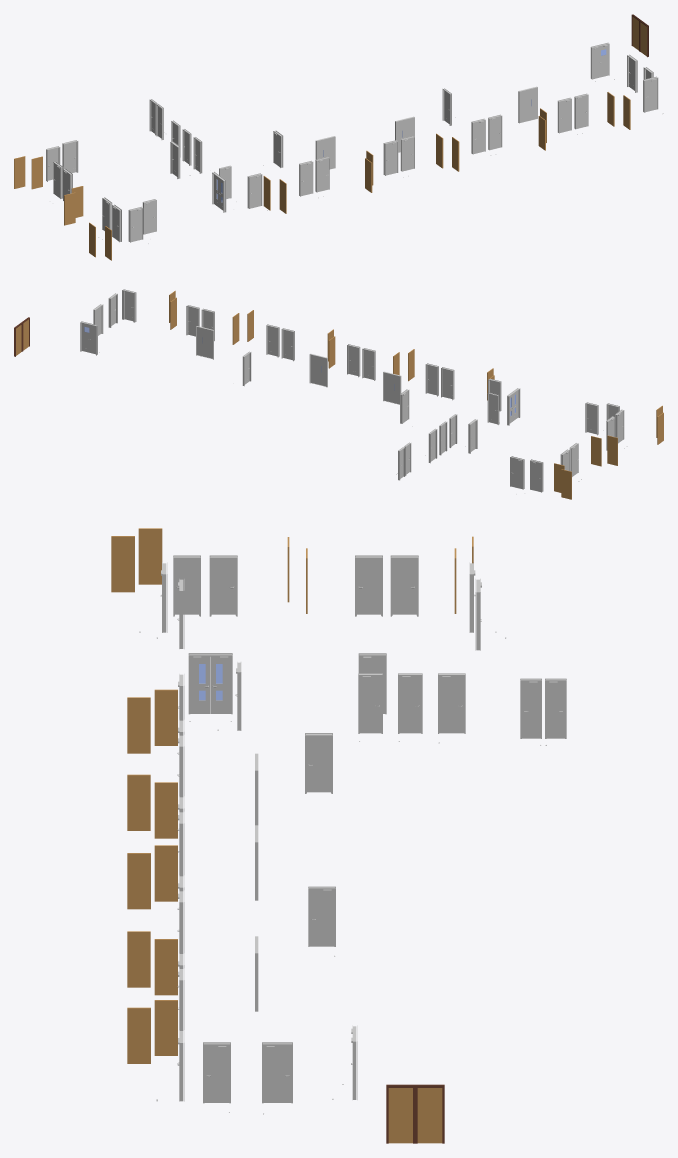
Rendered from Building Model - Excavation and Trench - updated_1kn71nZ$z5OvtVVlfMoRRc-Piso 3_IfcDoor.dae.
3 renders of one model, top to bottom at view 1: azimuth 30°, elevation 25°; view 2: azimuth 150°, elevation 25°; view 3: azimuth 270°, elevation 25°, orthographic. The views are drawn at different scales.
Visible parts, largest first — view 1: 3JLUC6oX1CJwqcpqLO$MxU, 3OBvVqfBfDR8CraztUO$on, 3OBvVqfBfDR8CraztUO$Rp, 3OBvVqfBfDR8CraztUO$ph, 3OBvVqfBfDR8CraztUO$pc, 2e0kZVHy15PupVzF9BmKDp, 3OBvVqfBfDR8CraztUO$op, 3OBvVqfBfDR8CraztUO$mP, 3OBvVqfBfDR8CraztUO$pa, 3OBvVqfBfDR8CraztUO$pb, 3OBvVqfBfDR8CraztUO$mQ, 3OBvVqfBfDR8CraztUO$pd (+10 smaller); view 2: 3OBvVqfBfDR8CraztUO$oo, 3OBvVqfBfDR8CraztUO$op, 3JLUC6oX1CJwqcpqLO$MxU, 3OBvVqfBfDR8CraztUO$on, 2e0kZVHy15PupVzF9BmKDp, 3JLUC6oX1CJwqcpqLO$M$j, 3OBvVqfBfDR8CraztUO$pg, 3OBvVqfBfDR8CraztUO$mO, 3OBvVqfBfDR8CraztUO$mP, 2e0kZVHy15PupVzF9BmKyt, 3OBvVqfBfDR8CraztUO$pc, 3OBvVqfBfDR8CraztUO$pb (+6 smaller); view 3: 3JLUC6oX1CJwqcpqLO$M$j, 3OBvVqfBfDR8CraztUO$ZB, 32NMaHW4HETOoqnpdpZEa$, 32NMaHW4HETOoqnpdpZEXG, 3OBvVqfBfDR8CraztUO$Rn, 3OBvVqfBfDR8CraztUO$Rv, 3OBvVqfBfDR8CraztUO$Xh, 3JLUC6oX1CJwqcpqLO$MvL, 3OBvVqfBfDR8CraztUO$R_, 3OBvVqfBfDR8CraztUO$Rm, 3OBvVqfBfDR8CraztUO$Rz, 3OBvVqfBfDR8CraztUO$Ro (+16 smaller).
Part boxes in pixels (x1,y1,x2,y2): 3JLUC6oX1CJwqcpqLO$MxU: [590, 42, 614, 81]; 3OBvVqfBfDR8CraztUO$on: [518, 86, 537, 123]; 3OBvVqfBfDR8CraztUO$Rp: [128, 206, 148, 243]; 3OBvVqfBfDR8CraztUO$ph: [247, 173, 267, 210]; 3OBvVqfBfDR8CraztUO$pc: [383, 140, 403, 177]; 2e0kZVHy15PupVzF9BmKDp: [62, 140, 78, 172]; 3OBvVqfBfDR8CraztUO$op: [315, 136, 335, 169]; 3OBvVqfBfDR8CraztUO$mP: [471, 118, 490, 155]; 3OBvVqfBfDR8CraztUO$pa: [299, 160, 318, 198]; 3OBvVqfBfDR8CraztUO$pb: [315, 156, 329, 196]; 3OBvVqfBfDR8CraztUO$mQ: [557, 97, 577, 134]; 3OBvVqfBfDR8CraztUO$pd: [400, 136, 414, 176]; 3OBvVqfBfDR8CraztUO$oo: [309, 353, 327, 387]; 3OBvVqfBfDR8CraztUO$op: [383, 371, 401, 404]; 3JLUC6oX1CJwqcpqLO$MxU: [80, 321, 99, 355]; 3OBvVqfBfDR8CraztUO$on: [196, 326, 213, 359]; 2e0kZVHy15PupVzF9BmKDp: [510, 456, 524, 494]; 3JLUC6oX1CJwqcpqLO$M$j: [499, 388, 520, 425]; 3OBvVqfBfDR8CraztUO$pg: [530, 459, 543, 492]; 3OBvVqfBfDR8CraztUO$mO: [266, 324, 279, 357]; 3OBvVqfBfDR8CraztUO$mP: [281, 328, 294, 361]; 2e0kZVHy15PupVzF9BmKyt: [585, 402, 603, 435]; 3OBvVqfBfDR8CraztUO$pc: [362, 348, 375, 380]; 3OBvVqfBfDR8CraztUO$pb: [425, 363, 438, 396]; 3JLUC6oX1CJwqcpqLO$M$j: [188, 653, 232, 721]; 3OBvVqfBfDR8CraztUO$ZB: [262, 1042, 292, 1114]; 32NMaHW4HETOoqnpdpZEa$: [415, 1084, 444, 1143]; 32NMaHW4HETOoqnpdpZEXG: [386, 1084, 415, 1143]; 3OBvVqfBfDR8CraztUO$Rn: [209, 555, 237, 616]; 3OBvVqfBfDR8CraztUO$Rv: [390, 555, 418, 616]; 3OBvVqfBfDR8CraztUO$Xh: [203, 1042, 230, 1112]; 3JLUC6oX1CJwqcpqLO$MvL: [308, 886, 335, 956]; 3OBvVqfBfDR8CraztUO$R_: [438, 673, 465, 743]; 3OBvVqfBfDR8CraztUO$Rm: [355, 555, 382, 616]; 3OBvVqfBfDR8CraztUO$Rz: [305, 733, 332, 793]; 3OBvVqfBfDR8CraztUO$Ro: [173, 555, 200, 616].
Size of the model in its own units: 43.16 by 14.84 by 2.12.
